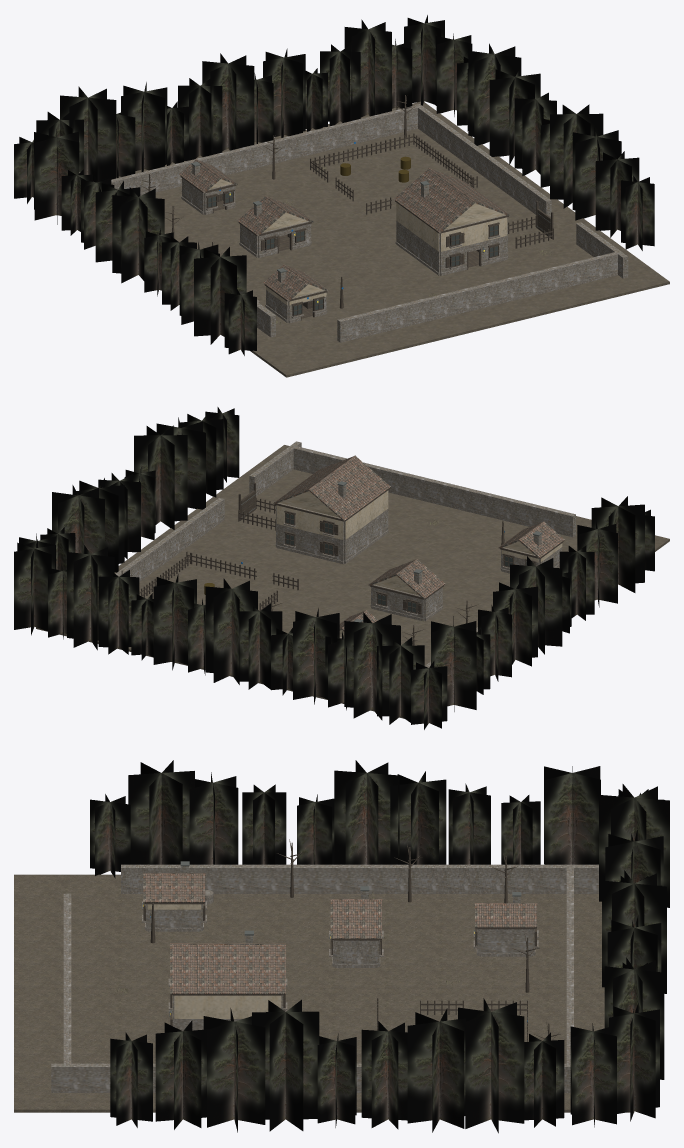
Rendered from farm.glb.
The picture shows the model from 3 angles, top to bottom: view 1: azimuth 30°, elevation 25°; view 2: azimuth 150°, elevation 25°; view 3: azimuth 270°, elevation 25°; orthographic projection. The views are drawn at different scales.
Parts seen in each view (by area): view 1: Ground, Farm boundary, PinePatch_-1_2, PinePatch_1_2, PinePatch_2_0, PinePatch_-2_2, PinePatch_-3_1, PinePatch_0_2, PinePatch_2_-1, PinePatch_-3_-2, House_Barn, PinePatch_-3_0 (+14 smaller); view 2: Ground, PinePatch_-1_2, Farm boundary, PinePatch_-2_2, PinePatch_1_2, PinePatch_-3_1, PinePatch_0_2, PinePatch_2_-1, PinePatch_-3_0, House_Barn, PinePatch_-3_-1, PinePatch_2_0 (+11 smaller); view 3: Ground, Farm boundary, PinePatch_2_0, PinePatch_2_-1, PinePatch_-3_1, PinePatch_2_1, PinePatch_-3_0, PinePatch_-3_-1, PinePatch_2_2, PinePatch_-3_-2, PinePatch_2_-2, Roof_Barn (+13 smaller).
Part boxes in pixels (left/top/right/bottom): Ground: left=116, top=101, right=669, bottom=377; Farm boundary: left=79, top=104, right=628, bottom=342; PinePatch_-1_2: left=121, top=53, right=254, bottom=171; PinePatch_1_2: left=320, top=19, right=412, bottom=125; PinePatch_2_0: left=489, top=66, right=556, bottom=187; PinePatch_-2_2: left=36, top=86, right=135, bottom=182; PinePatch_-3_1: left=34, top=129, right=114, bottom=249; PinePatch_0_2: left=254, top=48, right=327, bottom=143; PinePatch_2_-1: left=550, top=104, right=621, bottom=220; PinePatch_-3_-2: left=194, top=247, right=256, bottom=355; House_Barn: left=395, top=200, right=508, bottom=275; PinePatch_-3_0: left=95, top=181, right=164, bottom=283; Ground: left=36, top=445, right=669, bottom=718; PinePatch_-1_2: left=205, top=578, right=339, bottom=704; Farm boundary: left=115, top=441, right=575, bottom=667; PinePatch_-2_2: left=325, top=612, right=424, bottom=724; PinePatch_1_2: left=48, top=545, right=139, bottom=654; PinePatch_-3_1: left=431, top=605, right=511, bottom=711; PinePatch_0_2: left=131, top=574, right=205, bottom=675; PinePatch_2_-1: left=134, top=417, right=205, bottom=529; PinePatch_-3_0: left=493, top=556, right=562, bottom=666; House_Barn: left=275, top=488, right=389, bottom=564; PinePatch_-3_-1: left=559, top=520, right=617, bottom=633; PinePatch_2_0: left=76, top=467, right=155, bottom=572; Ground: left=14, top=874, right=634, bottom=1112; Farm boundary: left=51, top=864, right=598, bottom=1092; PinePatch_2_0: left=317, top=1008, right=465, bottom=1132; PinePatch_2_-1: left=203, top=999, right=319, bottom=1132; PinePatch_-3_1: left=448, top=766, right=600, bottom=864; PinePatch_2_1: left=458, top=998, right=564, bottom=1133; PinePatch_-3_0: left=334, top=760, right=446, bottom=864; PinePatch_-3_-1: left=189, top=772, right=334, bottom=864; PinePatch_2_2: left=570, top=1003, right=659, bottom=1127; PinePatch_-3_-2: left=90, top=760, right=194, bottom=878; PinePatch_2_-2: left=110, top=1020, right=208, bottom=1129; Roof_Barn: left=170, top=930, right=285, bottom=994.
Bounding box in the file's own units: 61.22 × 11.31 × 61.32.
18 materials, 11 textured.
